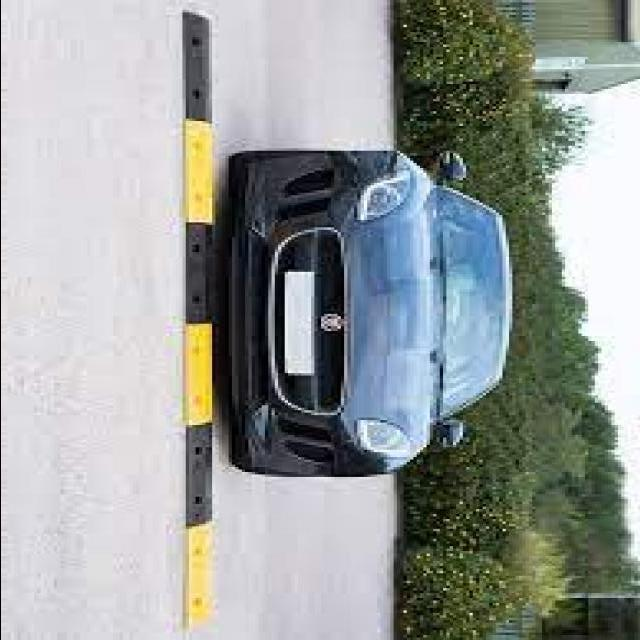Marked Bump: (152, 28, 232, 617)
